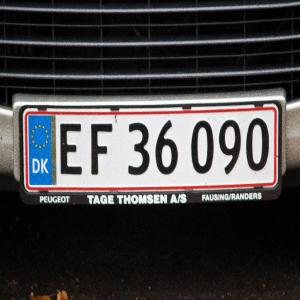Vehicle-registration-plate: (11, 95, 281, 212)
